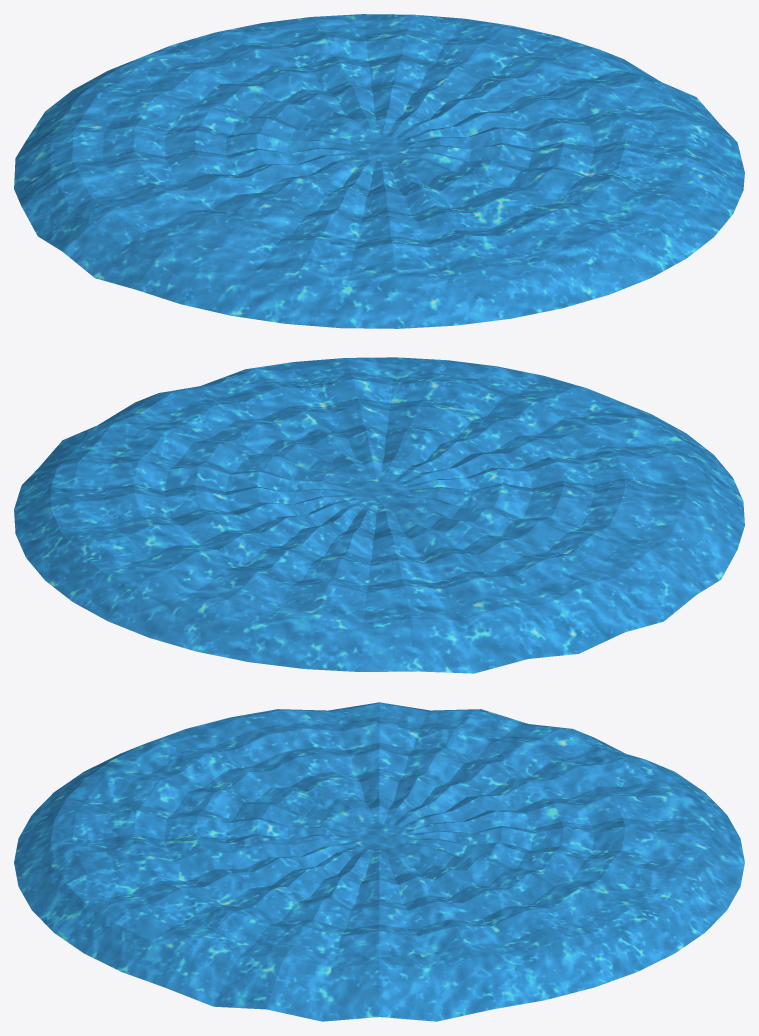
Rendered from OceanWater.fbx.
3 views of the same model, one above another, from view 1: azimuth 30°, elevation 25°; view 2: azimuth 150°, elevation 25°; view 3: azimuth 270°, elevation 25° (orthographic).
Visible parts, largest first — view 1: water:pCylinder1; view 2: water:pCylinder1; view 3: water:pCylinder1.
Boxes of the visible parts, x1,y1,x2,y2 form: water:pCylinder1: (14,14,744,328); water:pCylinder1: (14,357,744,673); water:pCylinder1: (14,702,744,1021).
Size of the model in its own units: 0.4218 by 0.0266 by 0.4218.
1 material, 1 textured.
